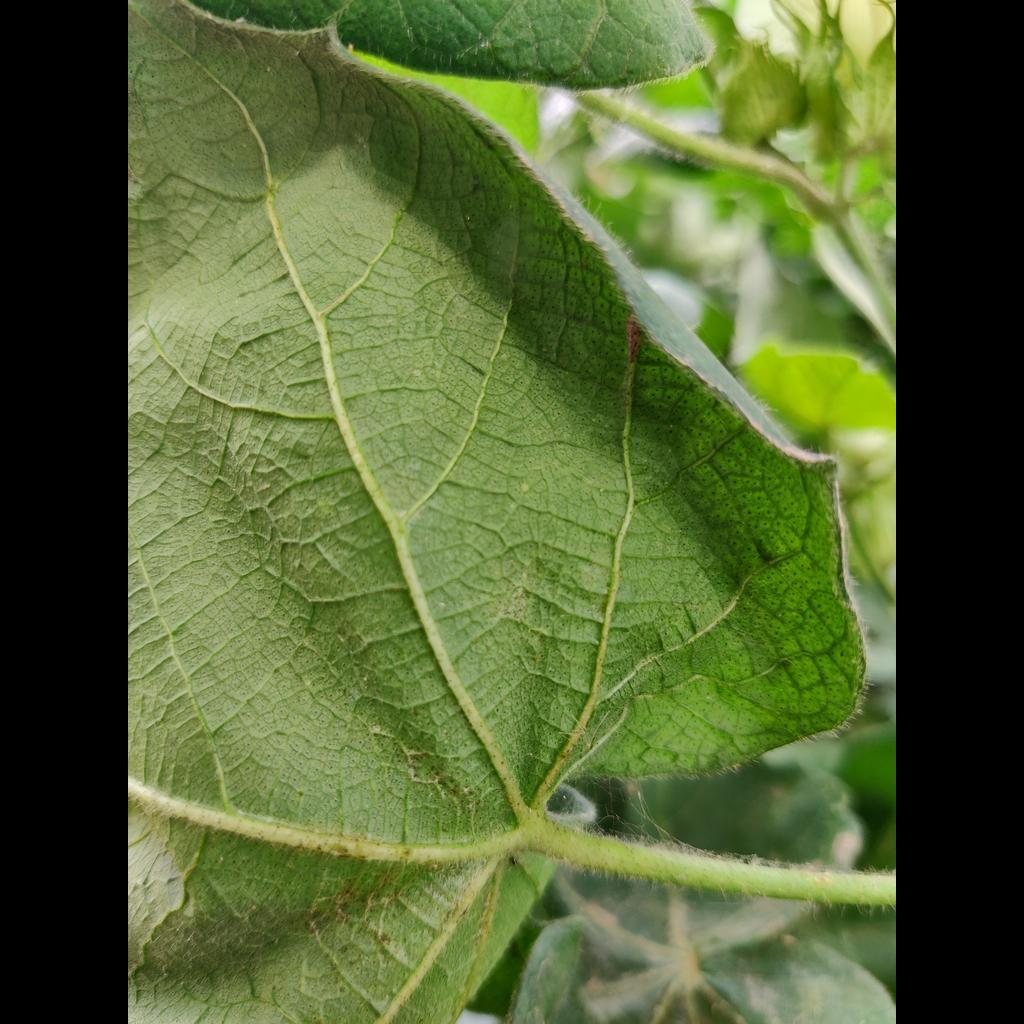nymph: (398, 510, 407, 518), (521, 483, 528, 491), (177, 105, 184, 110), (267, 66, 271, 73), (295, 51, 299, 57), (242, 143, 247, 147)
